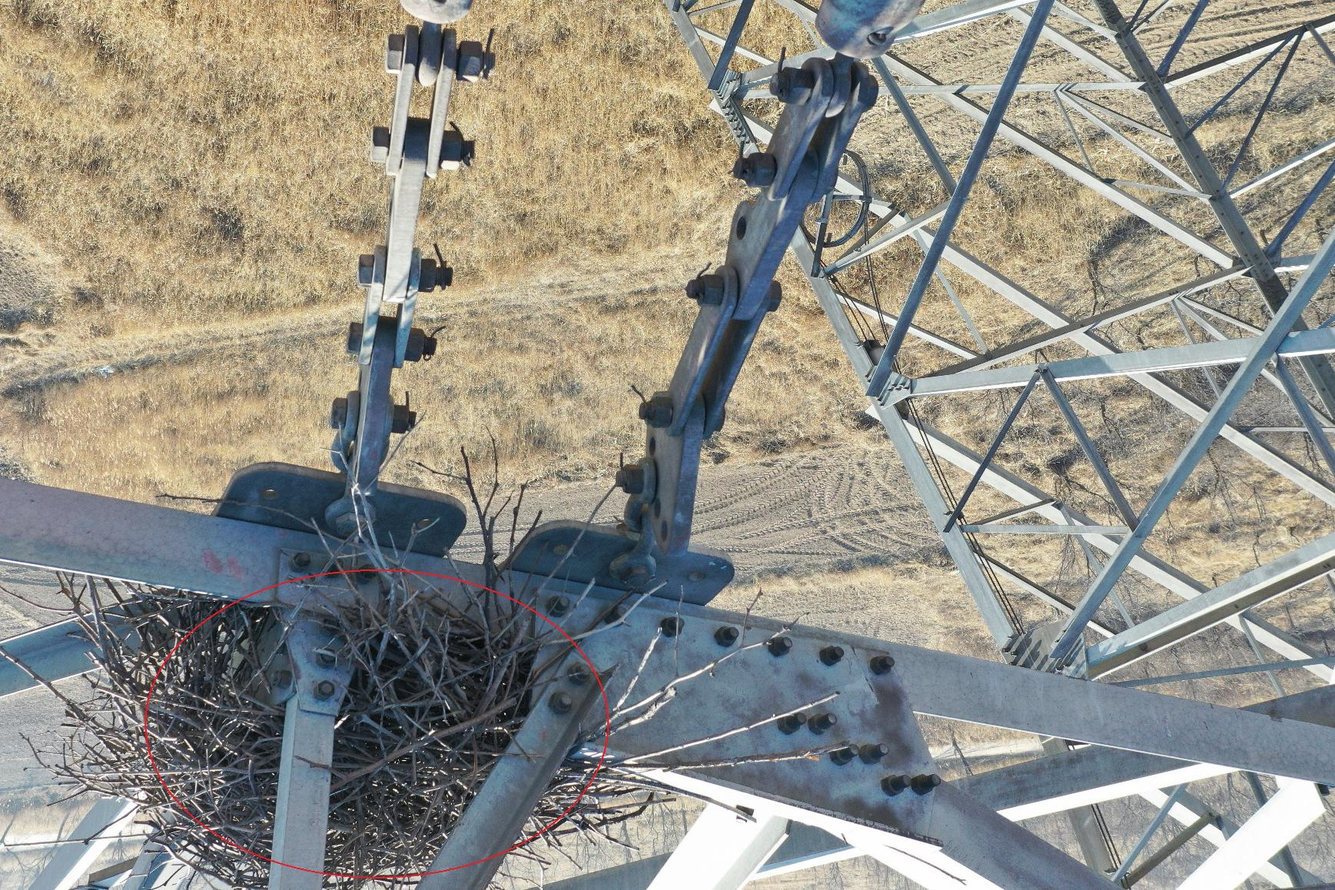nest: (28, 552, 671, 890)
